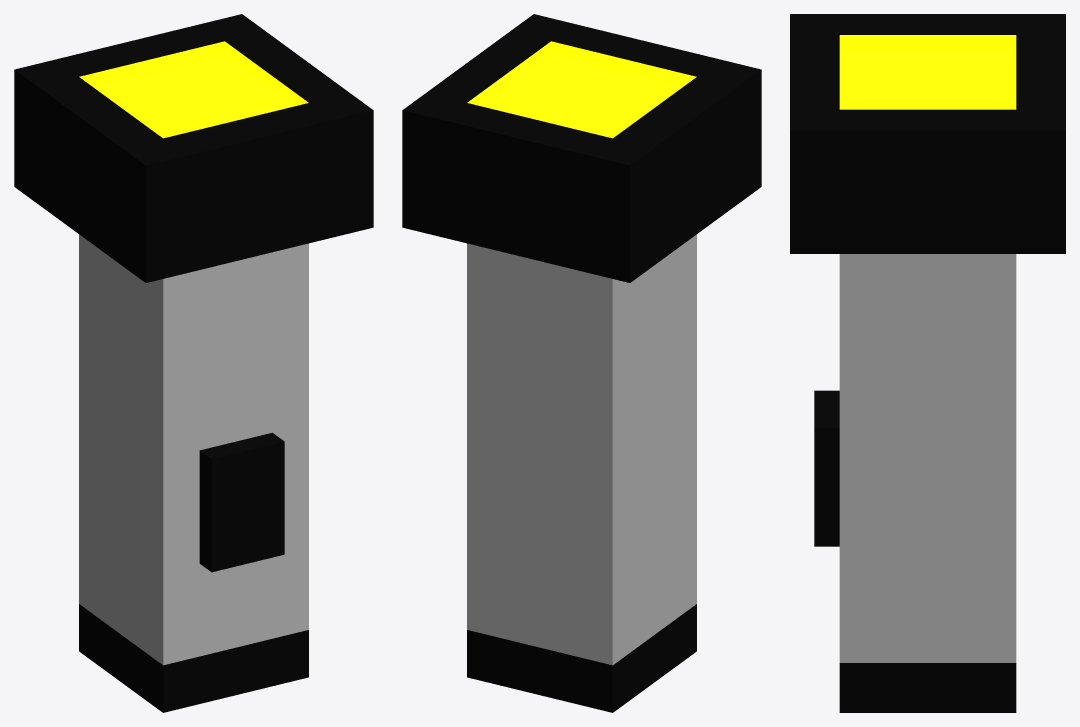
File: Senter.fbx
3 views of the same model, side by side, from view 1: azimuth 30°, elevation 25°; view 2: azimuth 150°, elevation 25°; view 3: azimuth 270°, elevation 25° (orthographic). The views are drawn at different scales.
Visible parts, largest first — view 1: Cube.008; view 2: Cube.008; view 3: Cube.008.
Boxes of the visible parts, box(x1,y1,x2,y2) form: Cube.008: box(14, 14, 373, 712); Cube.008: box(402, 14, 761, 712); Cube.008: box(790, 14, 1065, 712).
Bounding box in the file's own units: 21.84 × 52.69 × 21.84.
